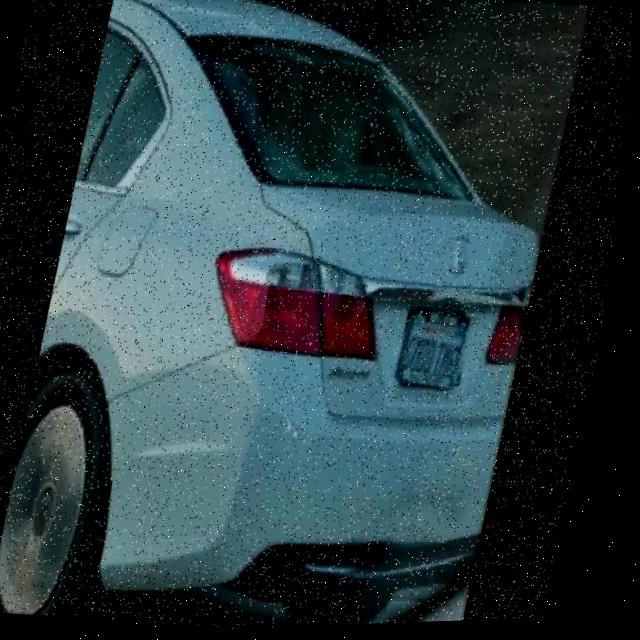LicensePlate: (403, 310, 479, 392)
